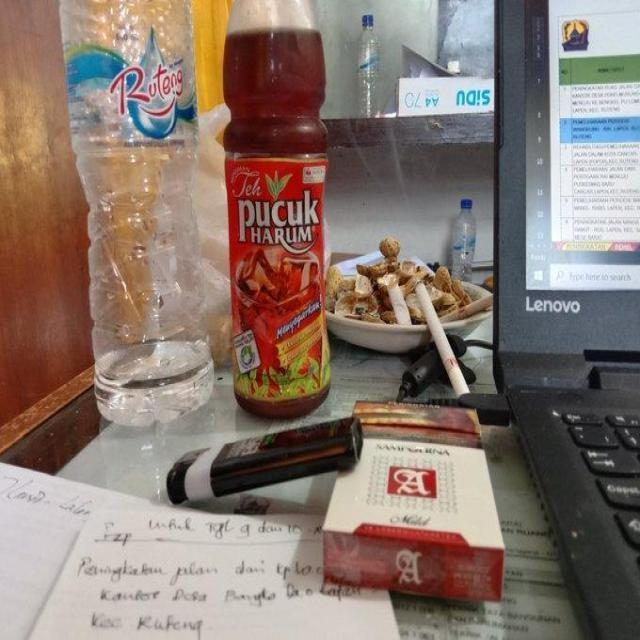rokok: (415, 272, 475, 398)
